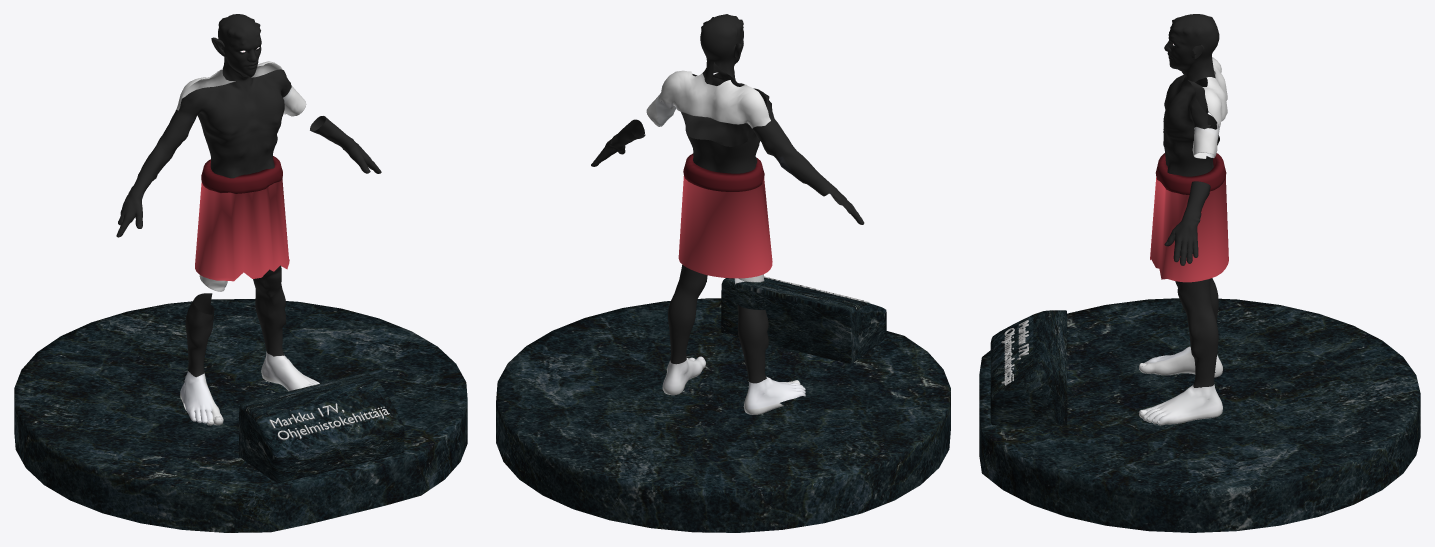
The model's file is markkuFull.fbx.
The picture shows the model from 3 angles, left to right: view 1: azimuth 30°, elevation 25°; view 2: azimuth 150°, elevation 25°; view 3: azimuth 270°, elevation 25°; orthographic projection.
Parts seen in each view (by area): view 1: Circle, Make, Cube, Circle.001, Text; view 2: Circle, Make, Circle.001, Cube; view 3: Circle, Make, Cube, Circle.001, Text.
Boxes of the visible parts, x1,y1,x2,y2 form: Circle: (14, 299, 467, 532); Make: (116, 14, 381, 425); Cube: (239, 373, 404, 482); Circle.001: (195, 156, 289, 281); Text: (269, 403, 389, 440); Circle: (496, 298, 950, 532); Make: (591, 14, 864, 414); Circle.001: (678, 153, 772, 278); Cube: (721, 277, 886, 364); Circle: (979, 298, 1420, 532); Make: (1139, 14, 1227, 425); Cube: (990, 310, 1067, 425); Circle.001: (1150, 153, 1228, 282); Text: (1001, 320, 1028, 385).
Bounding box in the file's own units: 200 × 204 × 194.
